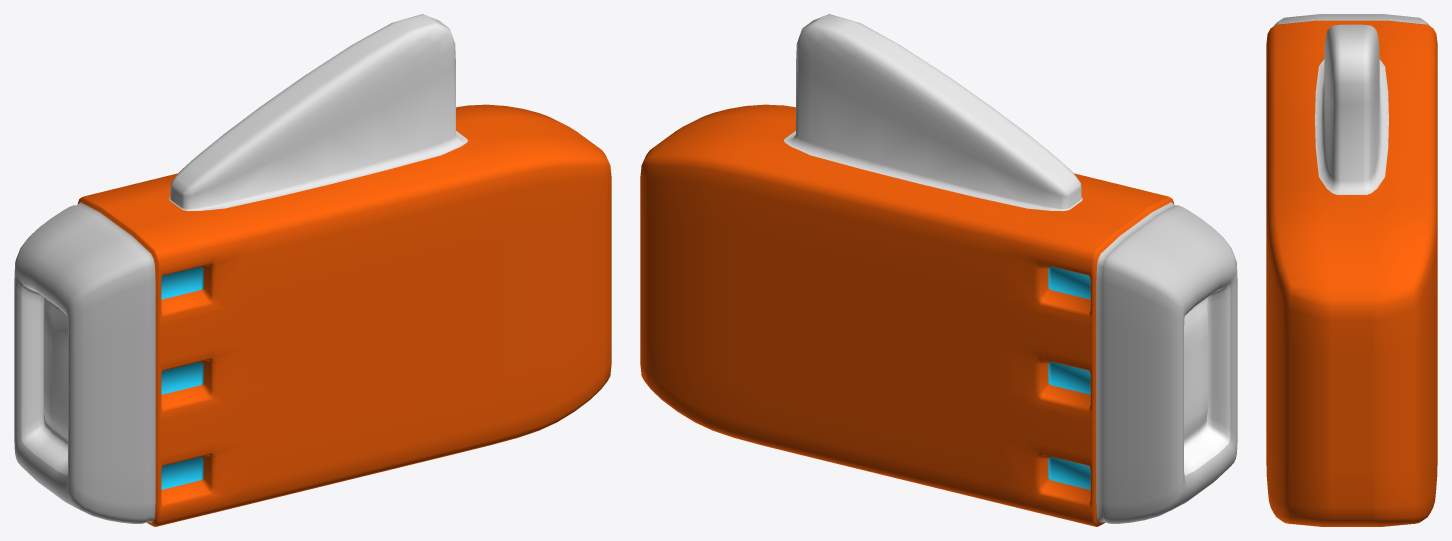
Rendered from Flashlight.fbx.
3 views of the same model, side by side, from view 1: azimuth 30°, elevation 25°; view 2: azimuth 150°, elevation 25°; view 3: azimuth 270°, elevation 25° (orthographic). The views are drawn at different scales.
Parts seen in each view (by area): view 1: Flashlight; view 2: Flashlight; view 3: Flashlight.
Boxes of the visible parts, x1,y1,x2,y2 form: Flashlight: (14, 14, 611, 526); Flashlight: (640, 14, 1237, 526); Flashlight: (1266, 14, 1437, 526).
Bounding box in the file's own units: 405 × 287 × 104.
